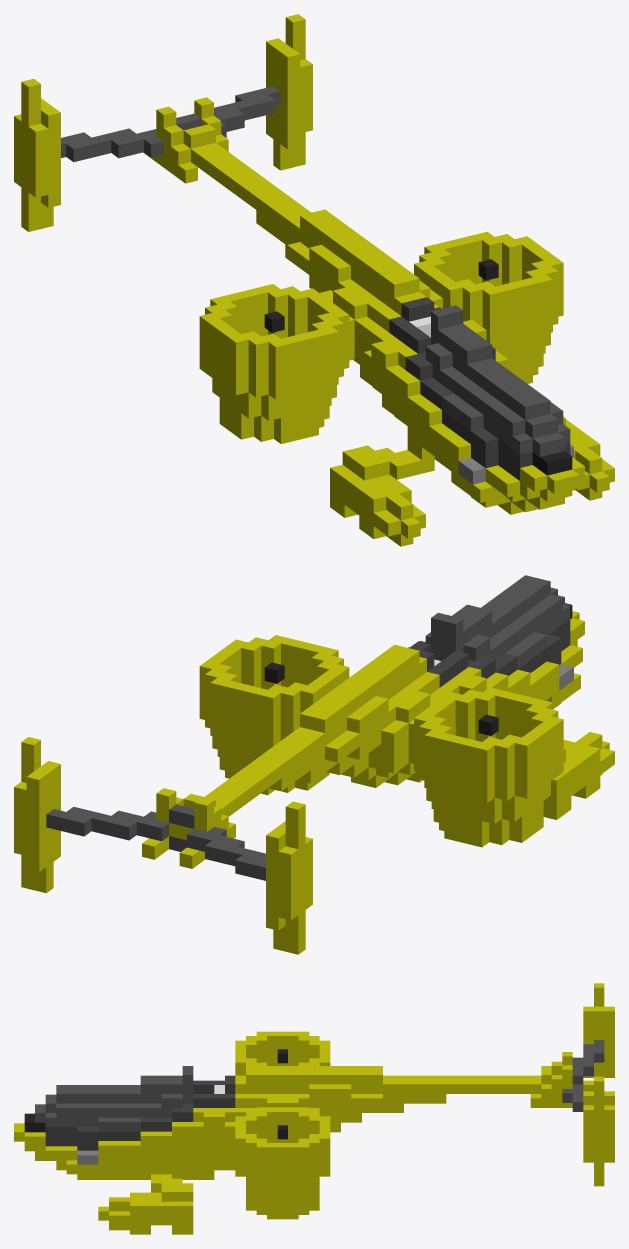
The model's file is OrcaAircraftBody.obj.
3 views of the same model, one above another, from view 1: azimuth 30°, elevation 25°; view 2: azimuth 150°, elevation 25°; view 3: azimuth 270°, elevation 25° (orthographic). The views are drawn at different scales.
Size of the model in its own units: 2.6 by 1.7 by 5.7.
Materials: 1 (1 with a texture image).
